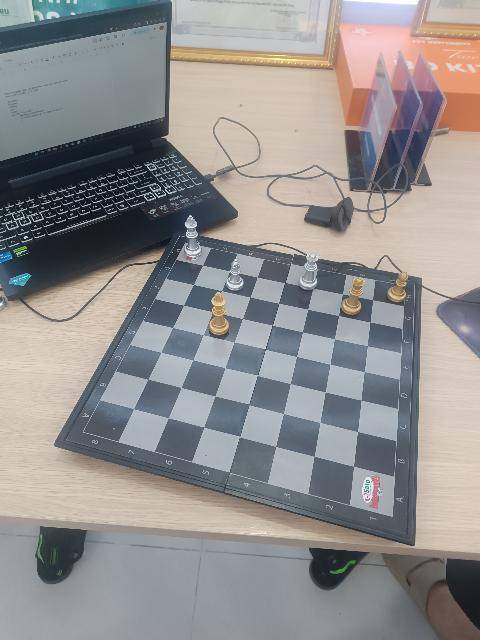black_bishop: (387, 269, 410, 305)
black_king: (209, 292, 230, 335)
black_queen: (341, 275, 366, 318)
white_bishop: (226, 258, 244, 293)
white_king: (184, 214, 202, 257)
white_queen: (300, 252, 318, 290)
